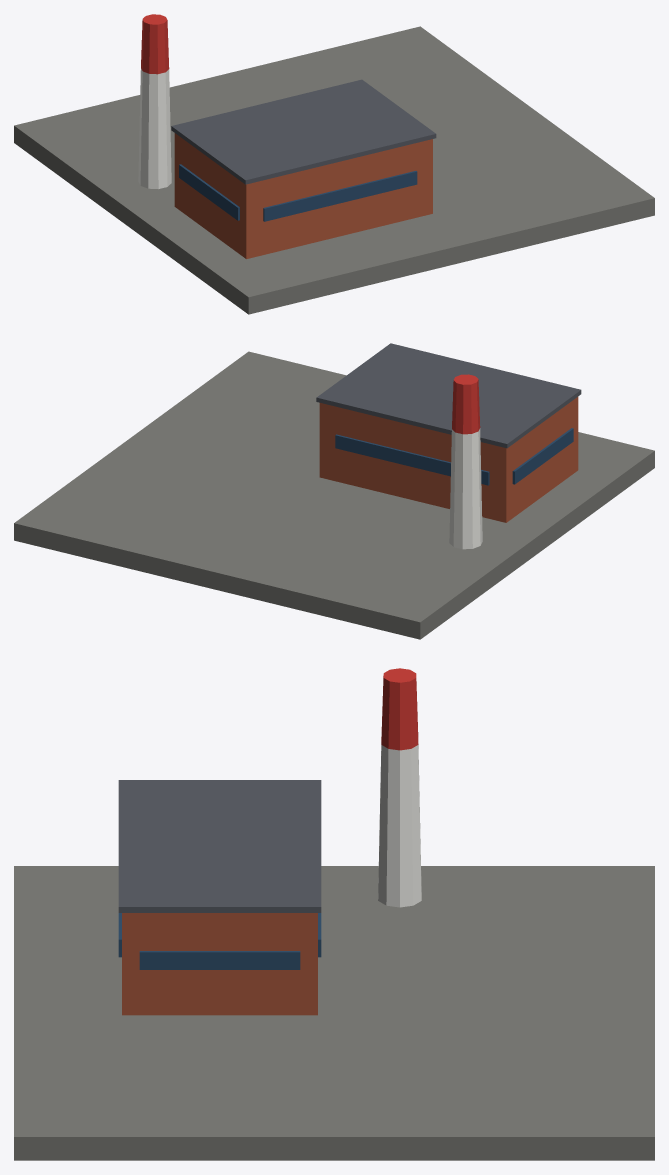
File: metal_rent_1.glb
The picture shows the model from 3 angles, top to bottom: view 1: azimuth 30°, elevation 25°; view 2: azimuth 150°, elevation 25°; view 3: azimuth 270°, elevation 25°; orthographic projection. The views are drawn at different scales.
Parts seen in each view (by area): view 1: metal_rent_1; view 2: metal_rent_1; view 3: metal_rent_1.
Boxes of the visible parts, left/top/right/bottom form: metal_rent_1: left=14, top=14, right=654, bottom=314; metal_rent_1: left=14, top=343, right=654, bottom=639; metal_rent_1: left=14, top=668, right=654, bottom=1160.
Bounding box in the file's own units: 1.96 × 0.83 × 1.96.
